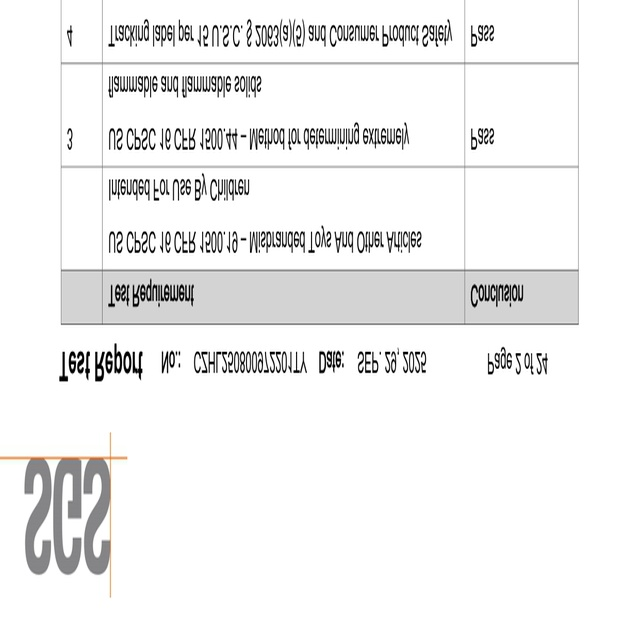sgs: (24, 457, 111, 574)
